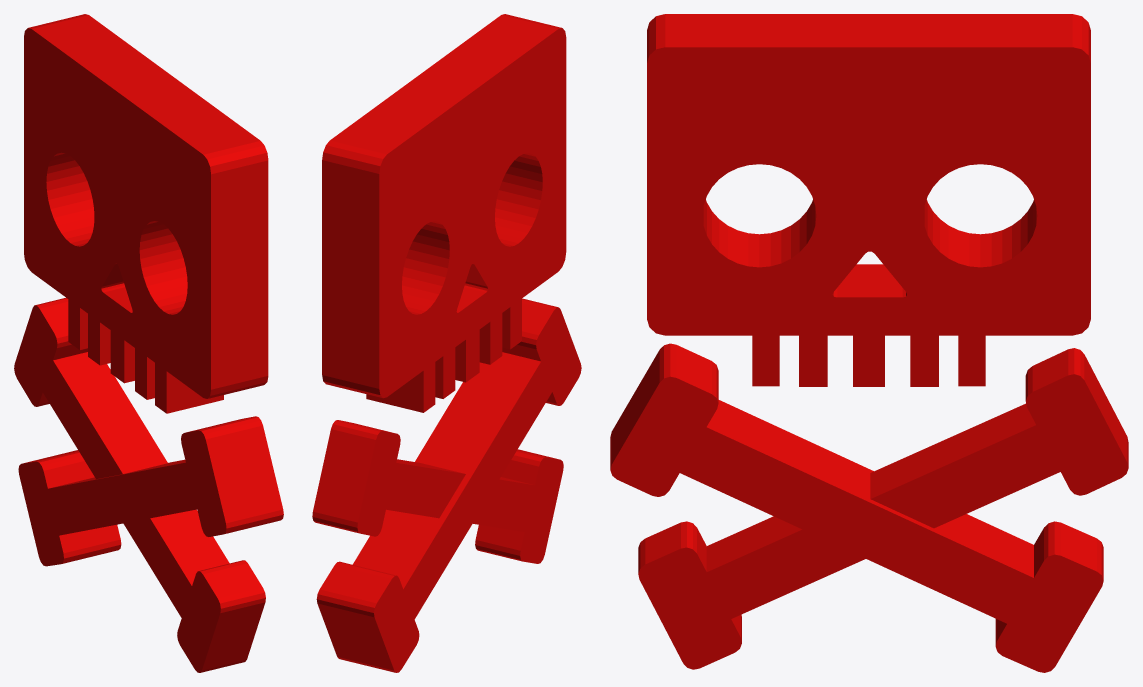
Rendered from DeathMark.fbx.
3 renders of one model, left to right at view 1: azimuth 30°, elevation 25°; view 2: azimuth 150°, elevation 25°; view 3: azimuth 270°, elevation 25°, orthographic. The views are drawn at different scales.
Visible parts, largest first — view 1: Plane; view 2: Plane; view 3: Plane.
Part boxes in pixels (box(x1,y1,x2,y2)): Plane: box(14, 14, 283, 672); Plane: box(312, 14, 581, 672); Plane: box(610, 14, 1128, 672).
Size of the model in its own units: 19.56 by 172 by 129.
